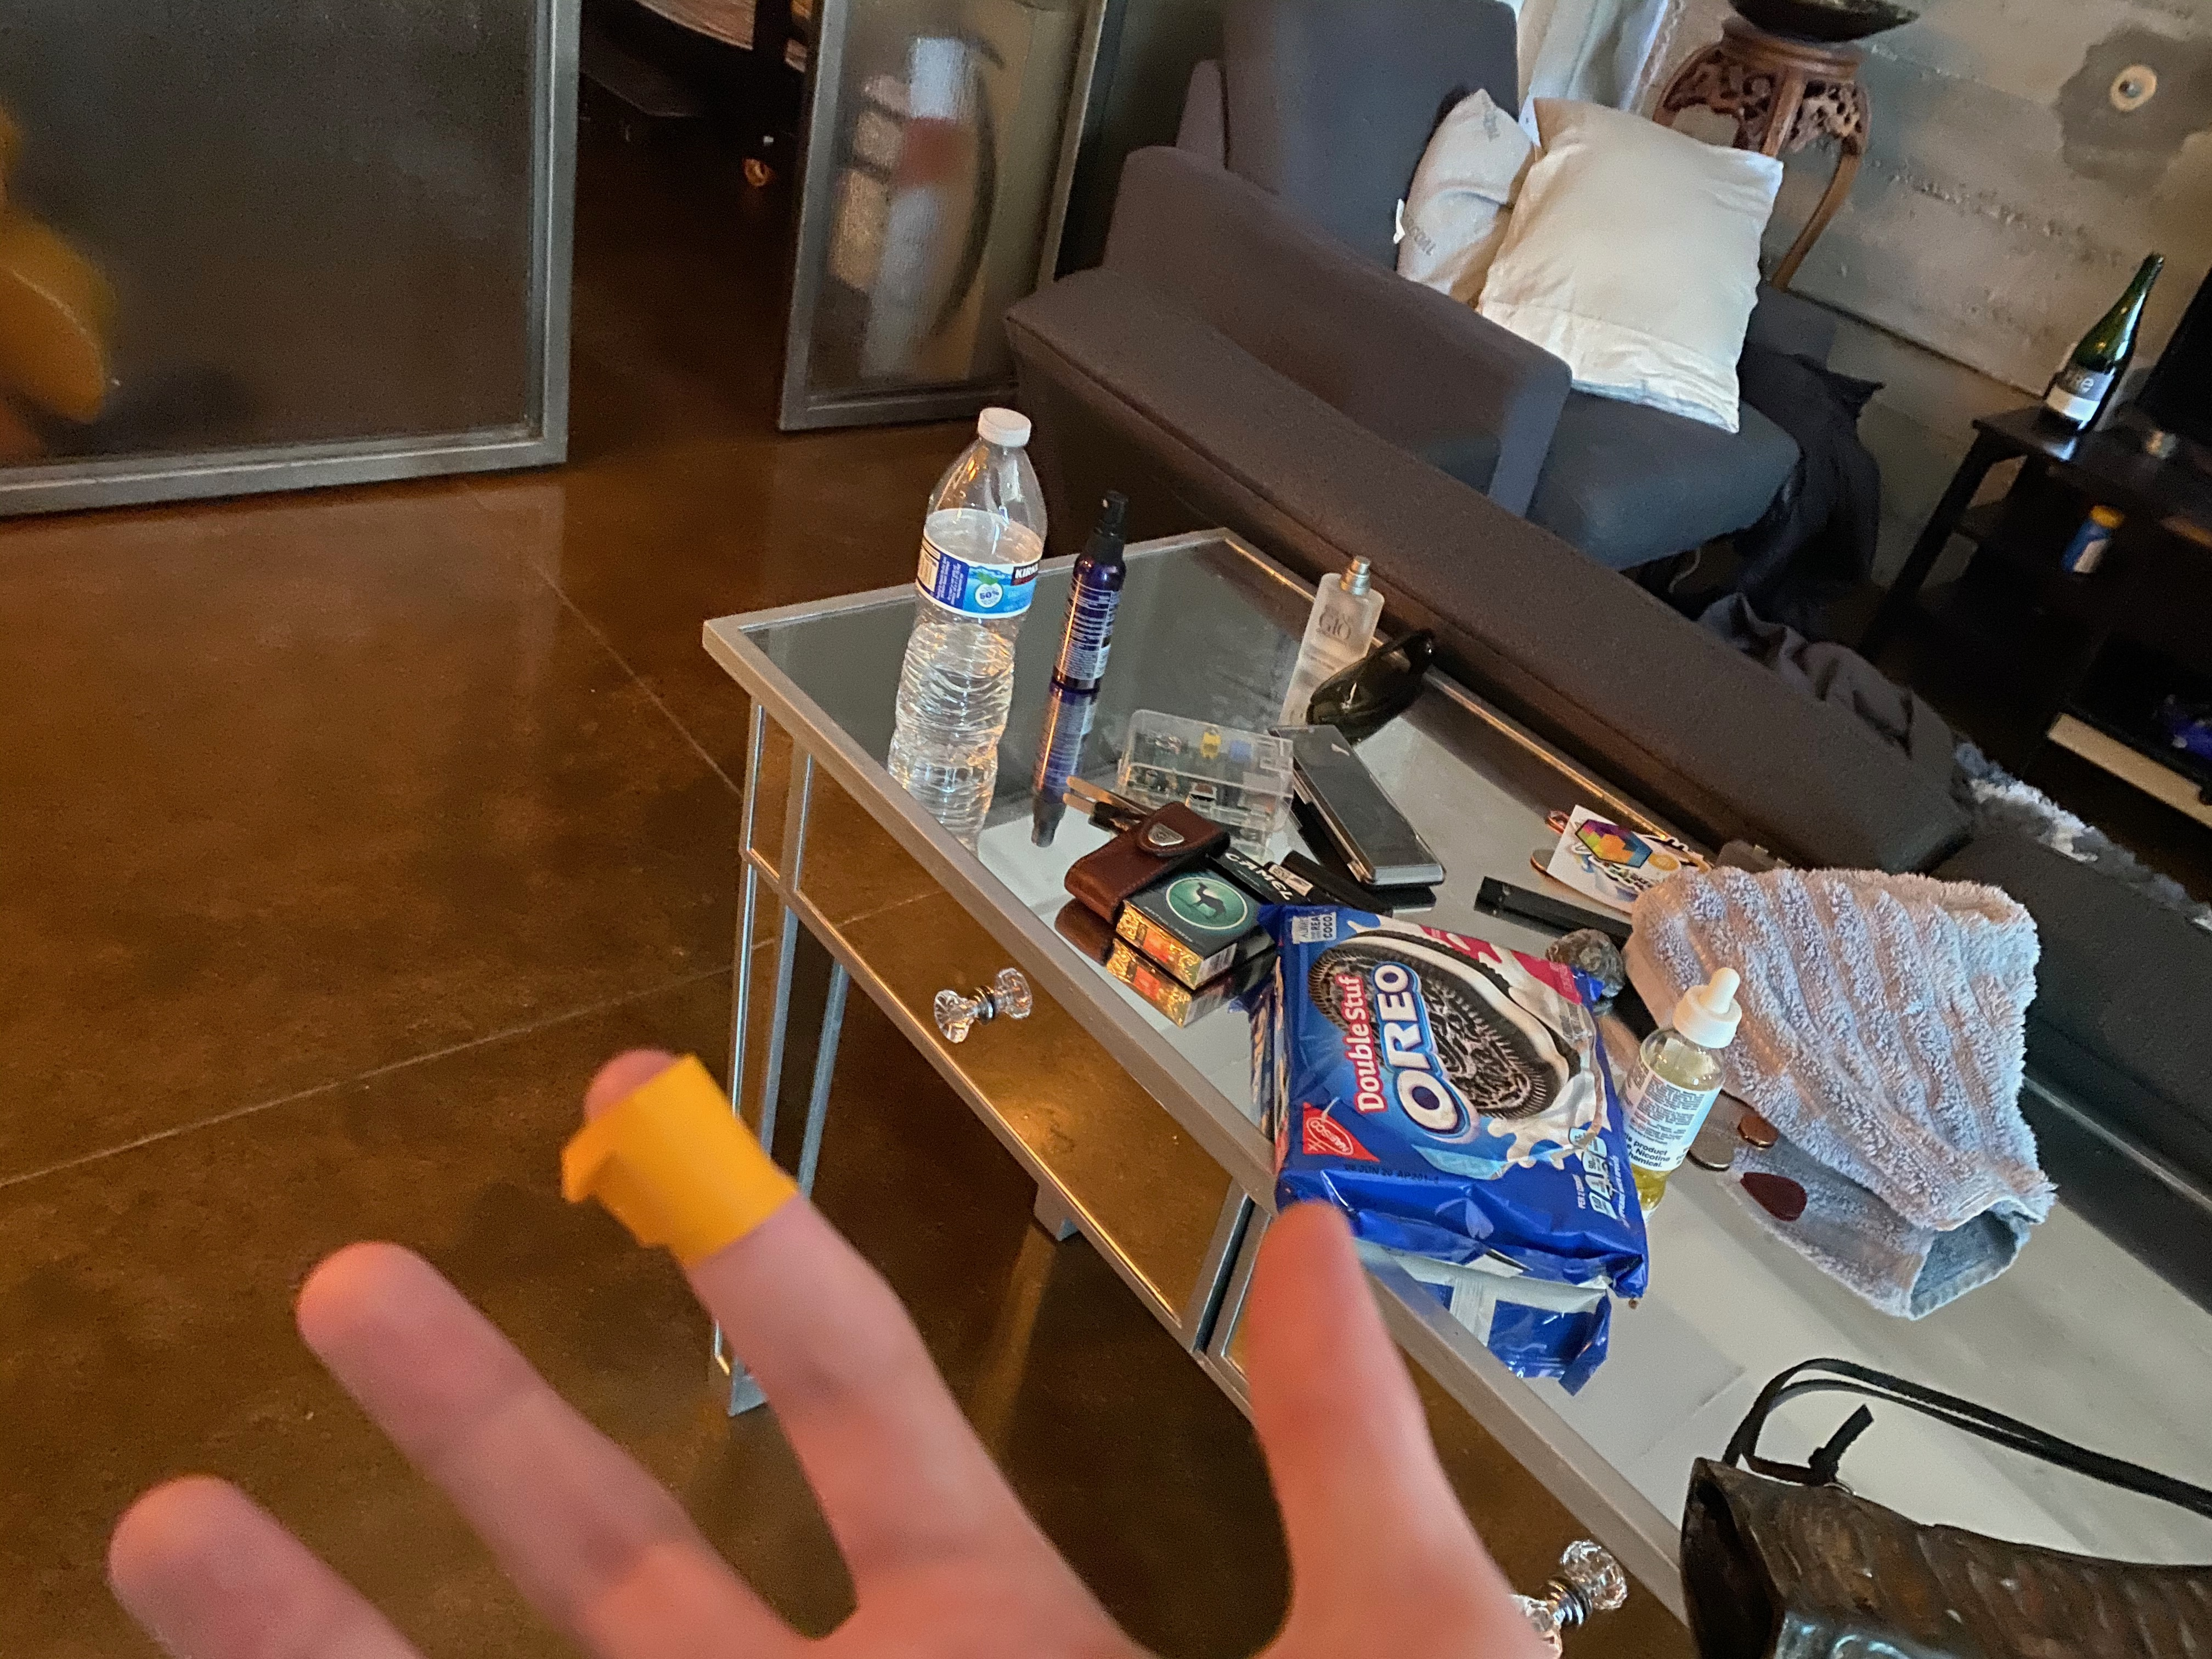fingertip: (524, 1033, 843, 1284)
